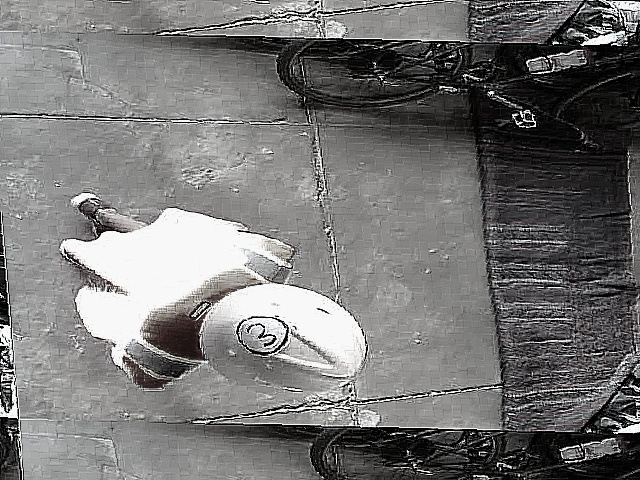three: (235, 313, 292, 355)
